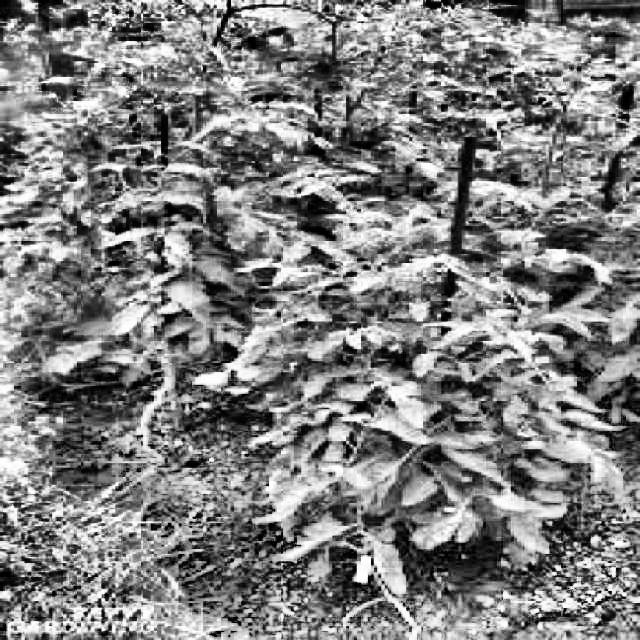plants: (234, 187, 616, 604), (25, 12, 266, 400), (312, 0, 620, 217)
